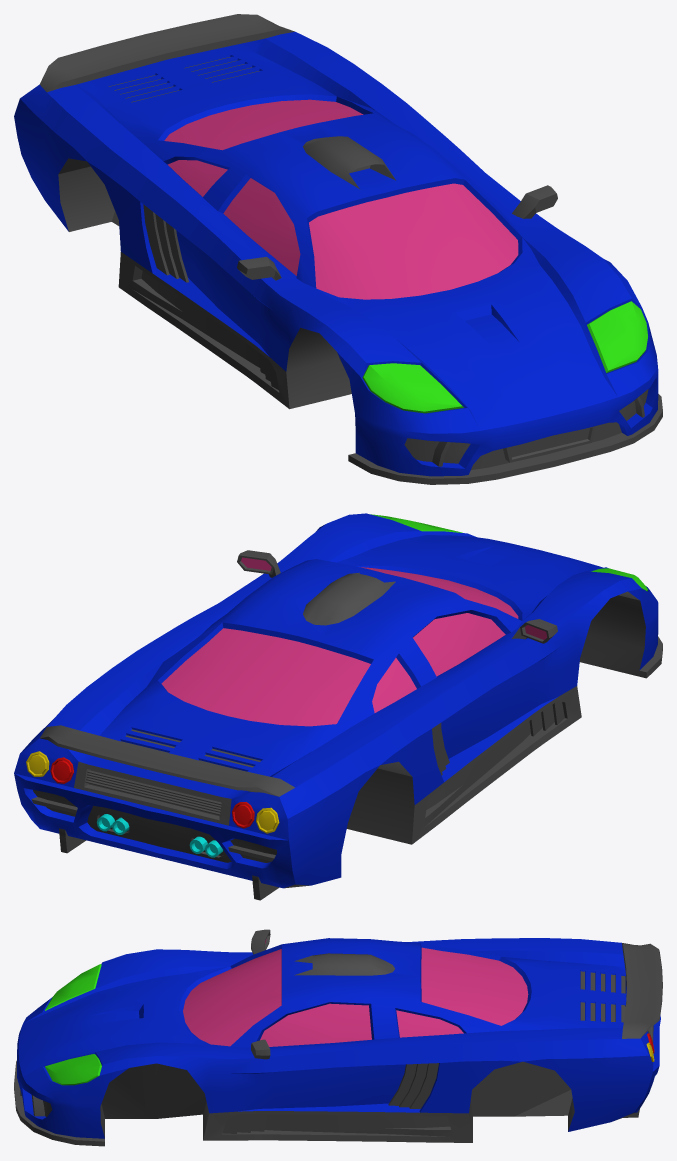
3 views of the same model, one above another, from view 1: azimuth 30°, elevation 25°; view 2: azimuth 150°, elevation 25°; view 3: azimuth 270°, elevation 25° (orthographic). The views are drawn at different scales.
Parts seen in each view (by area): view 1: C47; view 2: C47; view 3: C47.
Part boxes in pixels (<box>): C47: <box>14,14,662,484</box>; C47: <box>14,513,662,900</box>; C47: <box>14,929,662,1146</box>.
Size of the model in its own units: 86.23 by 43.33 by 195.
